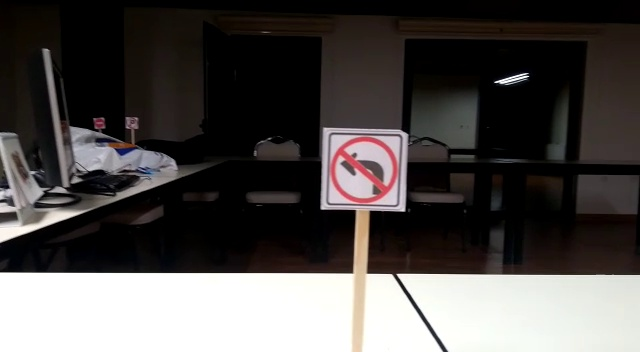sola_donulmez: (320, 124, 408, 212)
